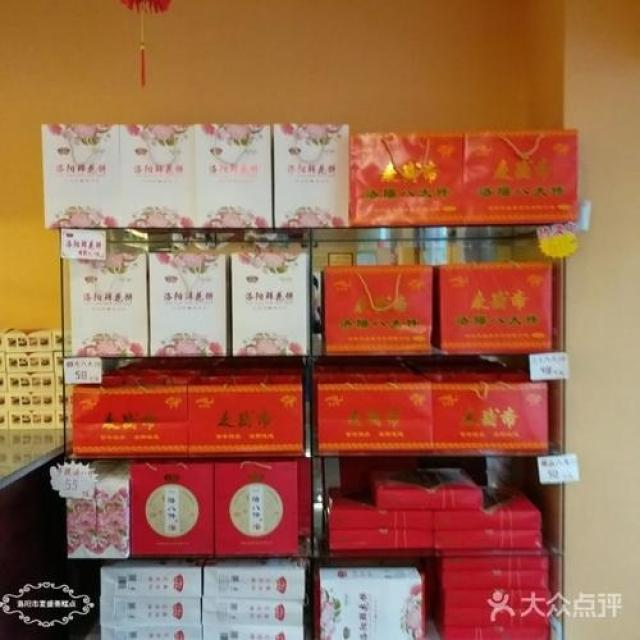box: (73, 364, 211, 458), (412, 367, 549, 454), (461, 129, 579, 225), (431, 261, 552, 353), (188, 365, 306, 458), (308, 367, 433, 453), (349, 133, 462, 227), (324, 265, 434, 353), (69, 242, 148, 356), (214, 456, 301, 558), (148, 252, 232, 356), (129, 457, 215, 557), (193, 122, 271, 229), (230, 253, 311, 356), (118, 123, 197, 228), (271, 122, 349, 228), (41, 124, 119, 229), (319, 568, 422, 640), (433, 484, 541, 531), (370, 467, 485, 511), (326, 486, 434, 531), (101, 556, 207, 599), (202, 557, 306, 600), (101, 557, 204, 600), (96, 460, 131, 559), (100, 598, 202, 628), (201, 598, 306, 626), (438, 547, 548, 573), (338, 456, 420, 488), (443, 590, 550, 611), (420, 456, 490, 488), (328, 529, 433, 549), (433, 530, 541, 549), (442, 572, 549, 591), (67, 498, 97, 559), (100, 623, 204, 640), (444, 611, 549, 627), (443, 626, 549, 640), (202, 627, 305, 640), (5, 328, 54, 352), (5, 352, 54, 374), (6, 372, 55, 393), (6, 393, 55, 411), (6, 411, 55, 429), (0, 328, 17, 353), (52, 329, 63, 352), (54, 371, 64, 392), (54, 352, 63, 372), (55, 392, 64, 411), (55, 411, 63, 430), (0, 392, 8, 411), (0, 372, 6, 392), (0, 352, 6, 372), (0, 411, 6, 429)
